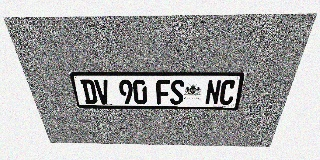0: (132, 80, 147, 104)
9: (118, 80, 134, 104)
C: (218, 80, 237, 105)
D: (80, 79, 98, 104)
F: (156, 80, 170, 104)
N: (205, 80, 222, 105)
S: (170, 80, 184, 104)
V: (94, 80, 111, 104)
